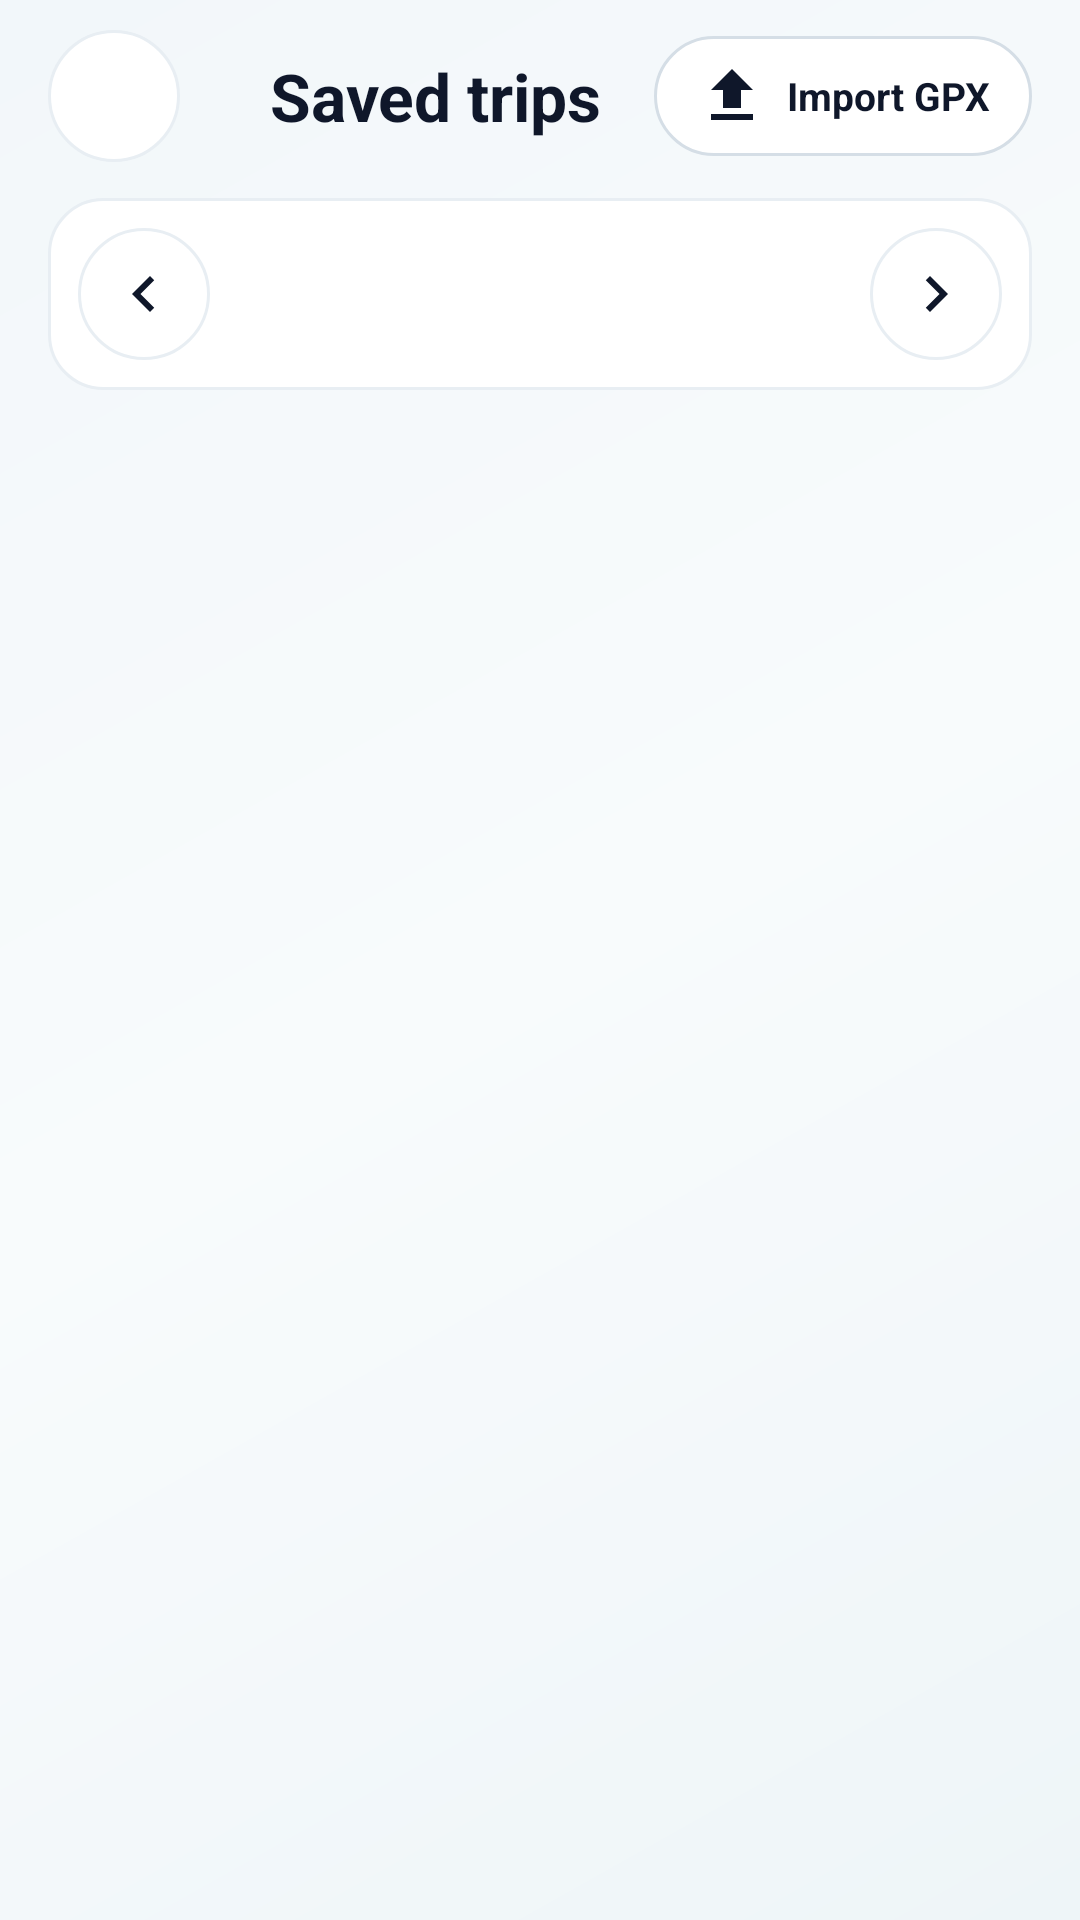

Icons on this 1080w x 1920h Android screen, each with the point to tap as point (x, y):
Next day: point (937, 294)
Previous day: point (143, 294)
